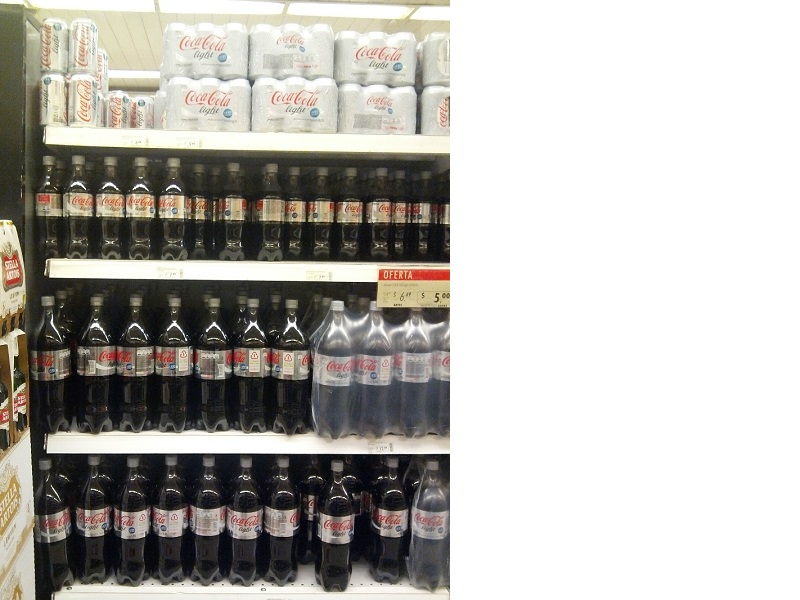lemonade: (107, 293, 164, 438), (70, 293, 125, 437), (186, 296, 240, 439), (30, 292, 81, 439), (149, 295, 199, 438), (312, 456, 361, 592), (257, 453, 306, 589), (230, 300, 277, 439), (108, 456, 154, 590), (151, 453, 193, 589), (210, 150, 258, 268), (151, 151, 196, 266), (226, 453, 262, 589), (90, 150, 133, 261), (118, 154, 161, 265), (60, 150, 99, 264), (252, 159, 289, 266)
